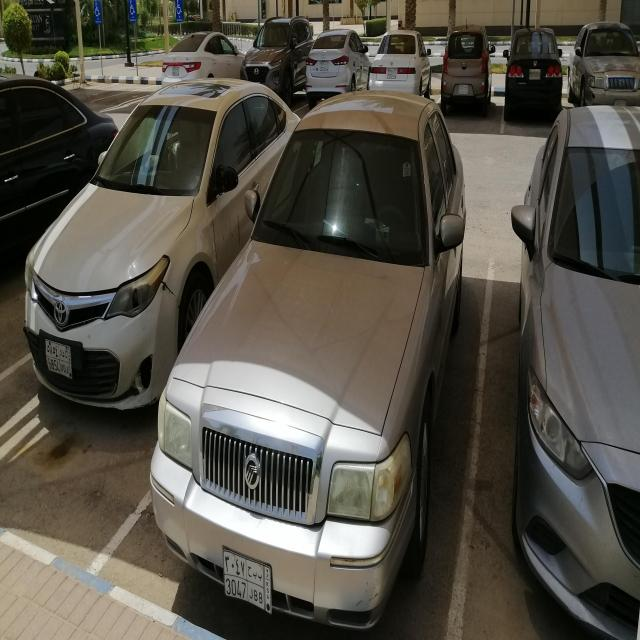license_plate: (220, 542, 274, 620), (42, 334, 74, 390), (529, 69, 541, 80), (458, 84, 469, 94), (387, 68, 396, 80), (614, 100, 626, 107), (320, 62, 328, 72), (172, 67, 179, 76)
